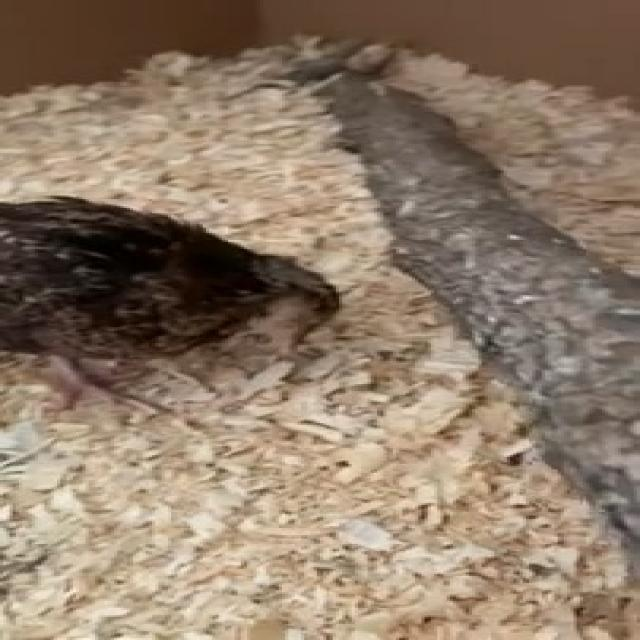newcastle: (0, 186, 415, 418)
